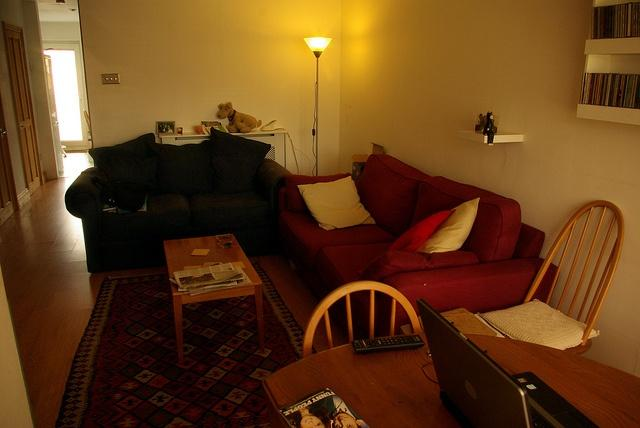Meja: (161, 232, 265, 362)
